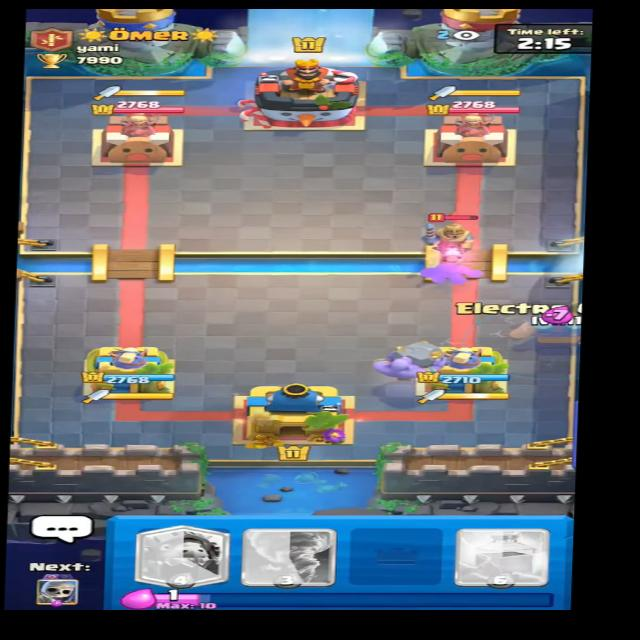prince: (420, 208, 485, 268)
